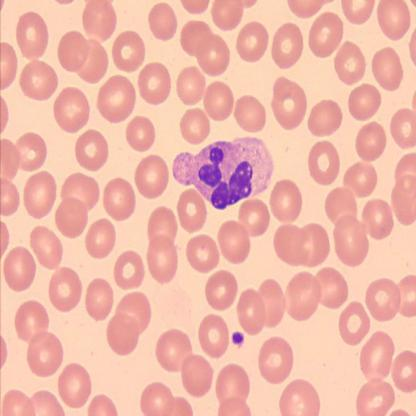Segmented neutrophil: (172, 133, 276, 211)
